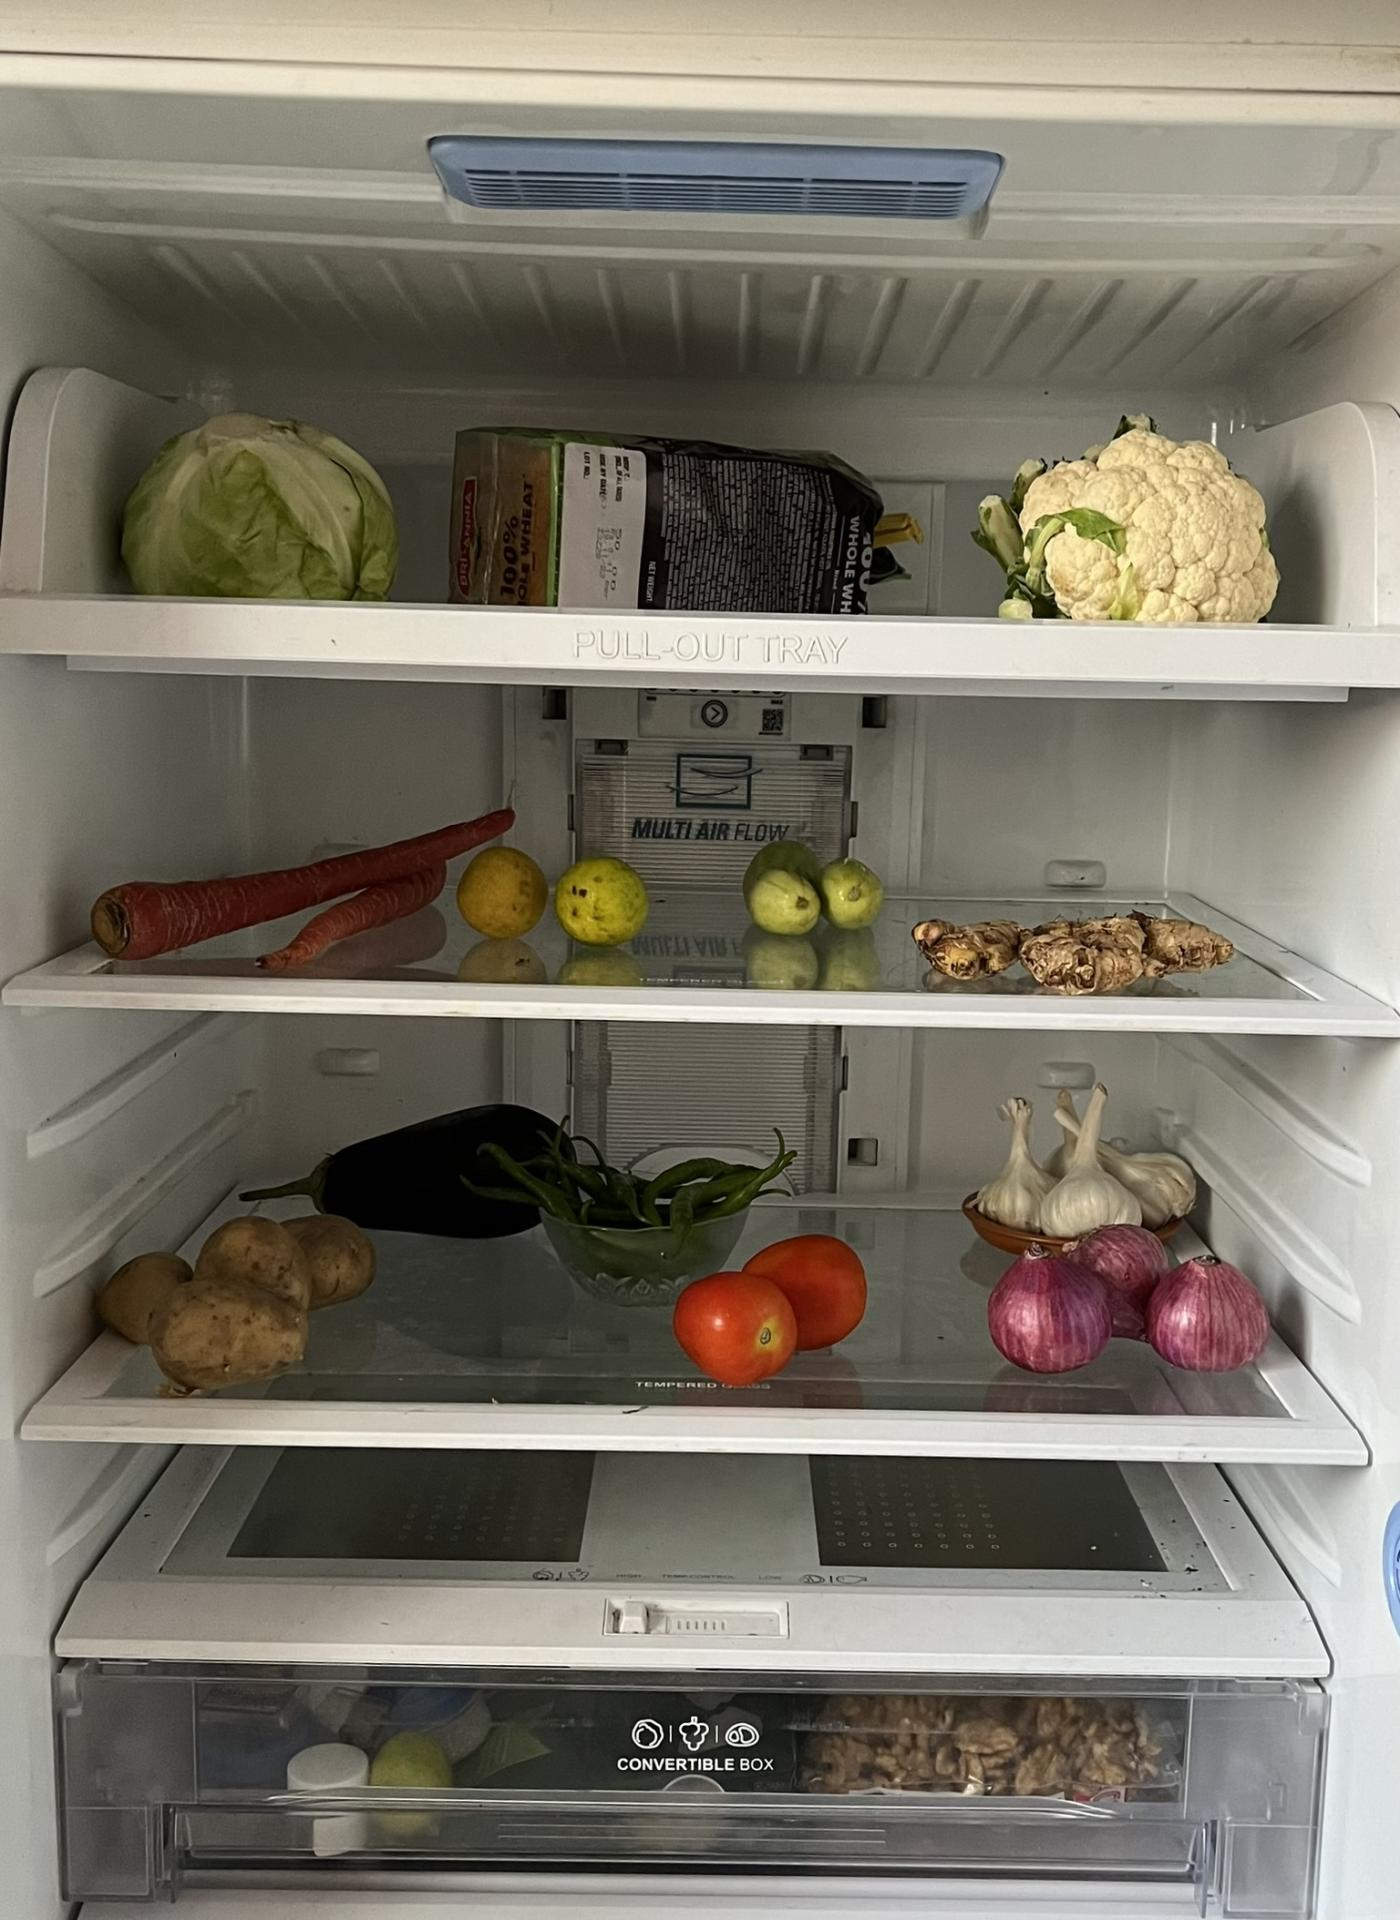bread: (443, 410, 930, 611)
cabbage: (130, 404, 383, 592)
carrots: (92, 799, 491, 956)
cauliflower: (996, 405, 1273, 622)
chillies: (535, 1136, 766, 1292)
garlic: (977, 1070, 1208, 1234)
ginger: (918, 911, 1243, 990)
lemon: (471, 841, 678, 947), (735, 832, 884, 930)
onion: (1005, 1225, 1267, 1386)
potato: (88, 1210, 371, 1406)
tomato: (686, 1230, 866, 1383)
